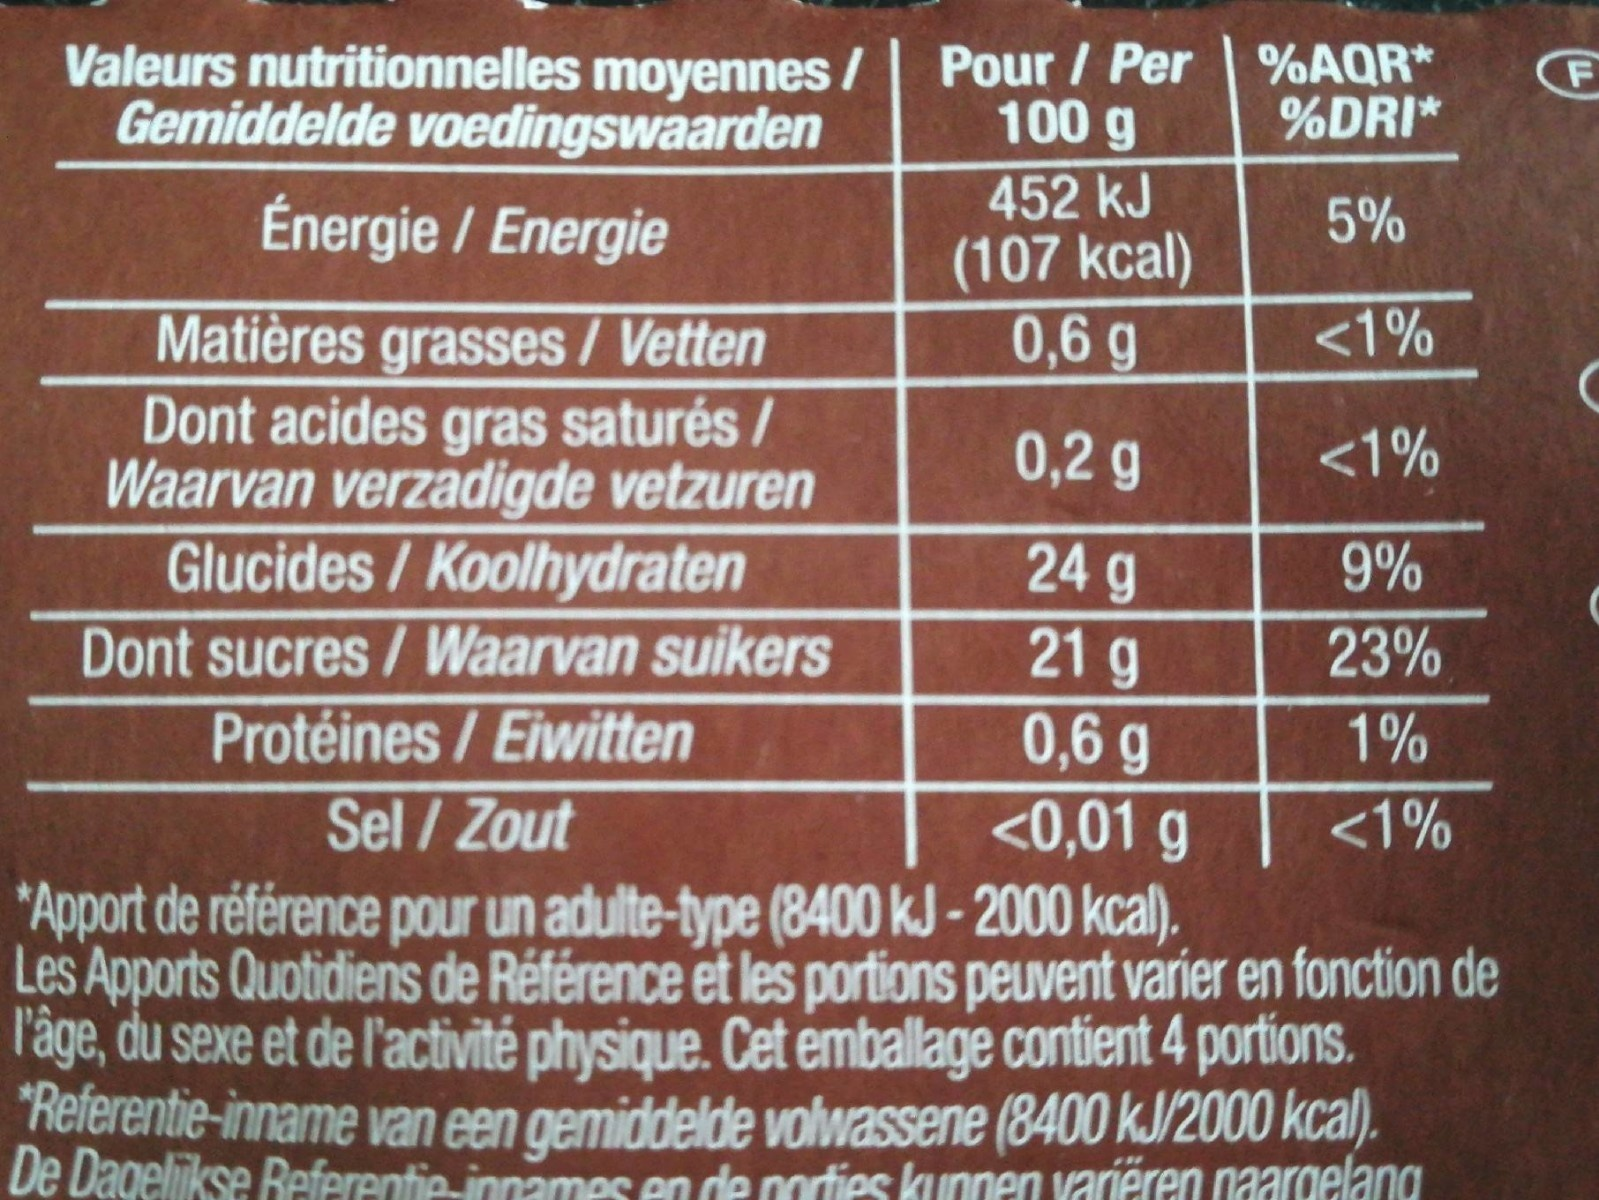column: (47, 35, 872, 852), (936, 43, 1203, 855), (1258, 34, 1469, 863)
table: (34, 28, 1503, 870)
